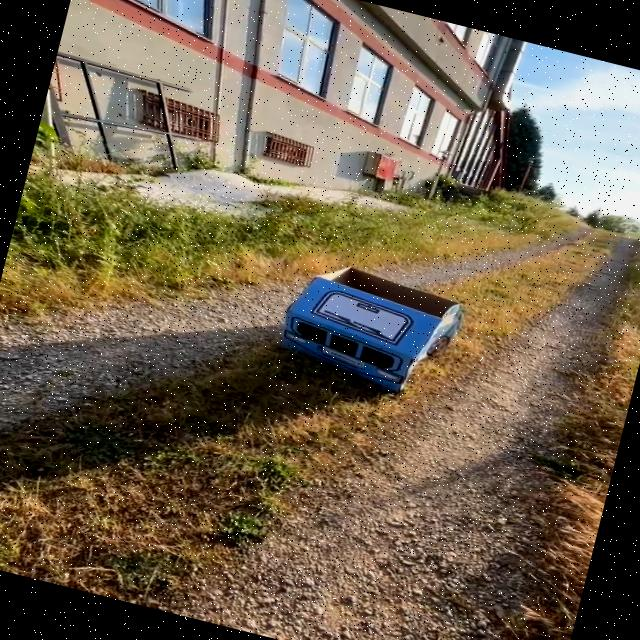blue_car: (226, 233, 489, 426)
